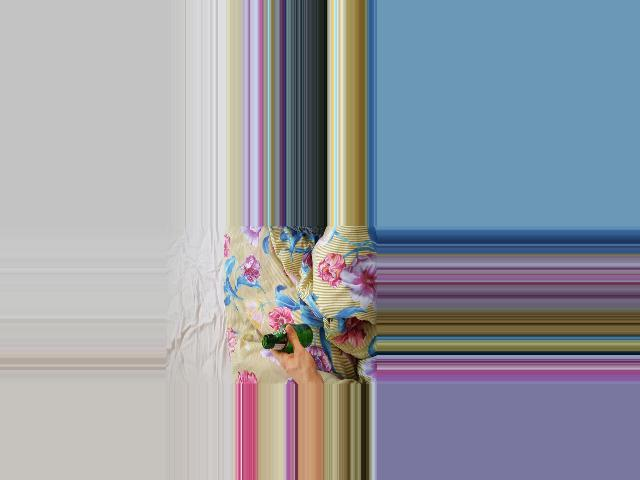beer: (263, 324, 313, 354)
